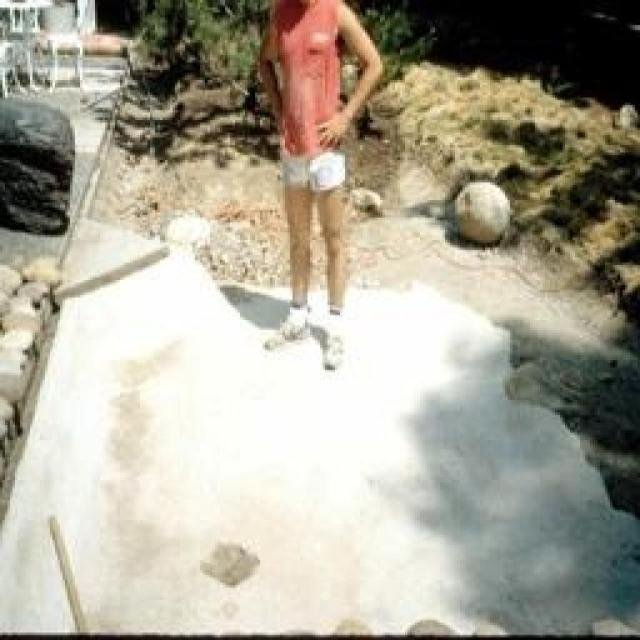Helmet: (238, 0, 402, 160)
